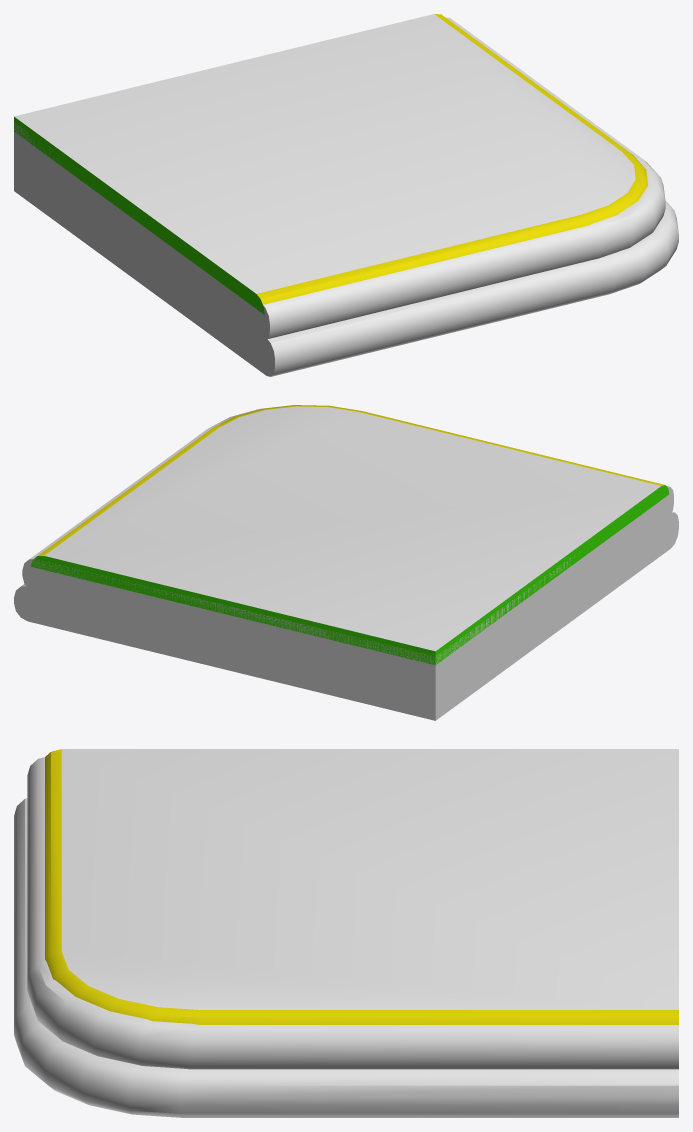
Rendered from zeminroad_corner.fbx.
The picture shows the model from 3 angles, top to bottom: view 1: azimuth 30°, elevation 25°; view 2: azimuth 150°, elevation 25°; view 3: azimuth 270°, elevation 25°; orthographic projection. The views are drawn at different scales.
Parts seen in each view (by area): view 1: Cube.004; view 2: Cube.004; view 3: Cube.004.
Part boxes in pixels (bbox=[...]): Cube.004: bbox=[14, 14, 678, 376]; Cube.004: bbox=[14, 405, 678, 720]; Cube.004: bbox=[14, 749, 678, 1117].
Size of the model in its own units: 5 by 0.7882 by 5.
